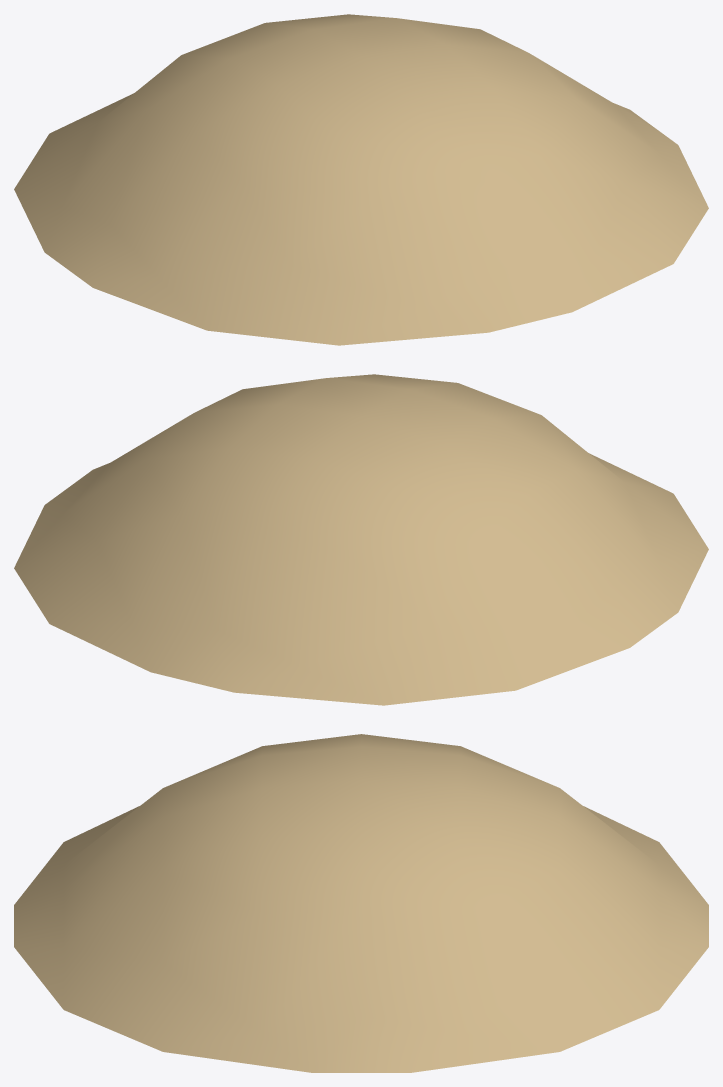
Rendered from ASFTR_RiceFried.fbx.
3 views of the same model, one above another, from view 1: azimuth 30°, elevation 25°; view 2: azimuth 150°, elevation 25°; view 3: azimuth 270°, elevation 25° (orthographic). The views are drawn at different scales.
Visible parts, largest first — view 1: ASFTR_FriedRice; view 2: ASFTR_FriedRice; view 3: ASFTR_FriedRice.
Part boxes in pixels (left/top/right/bottom): ASFTR_FriedRice: left=14, top=14, right=708, bottom=345; ASFTR_FriedRice: left=14, top=374, right=708, bottom=705; ASFTR_FriedRice: left=14, top=734, right=708, bottom=1072.
Bounding box in the file's own units: 52.6 × 52.6 × 12.17.
